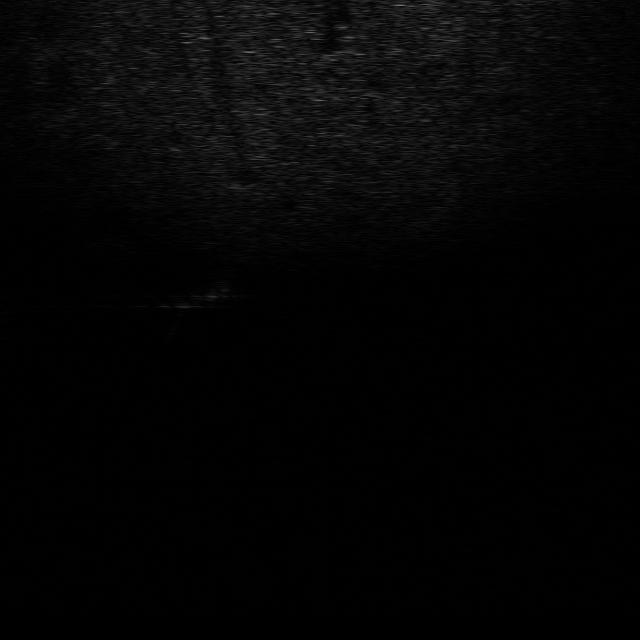human body: (171, 264, 231, 332)
